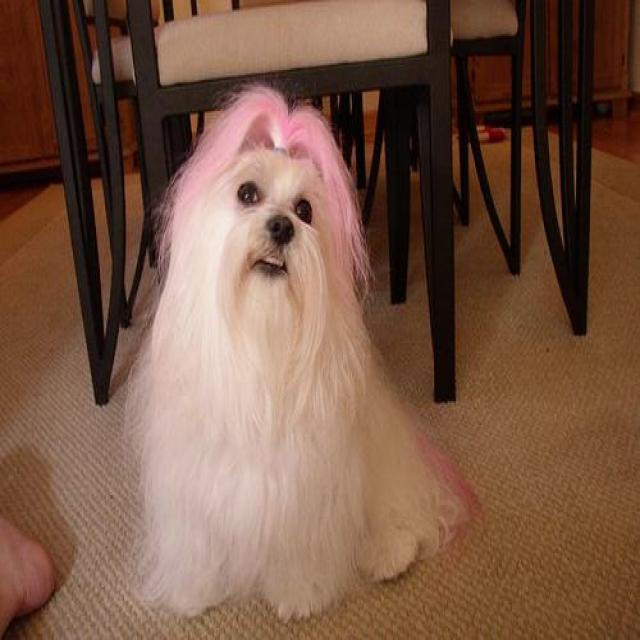maltese_dog: (132, 85, 476, 616)
